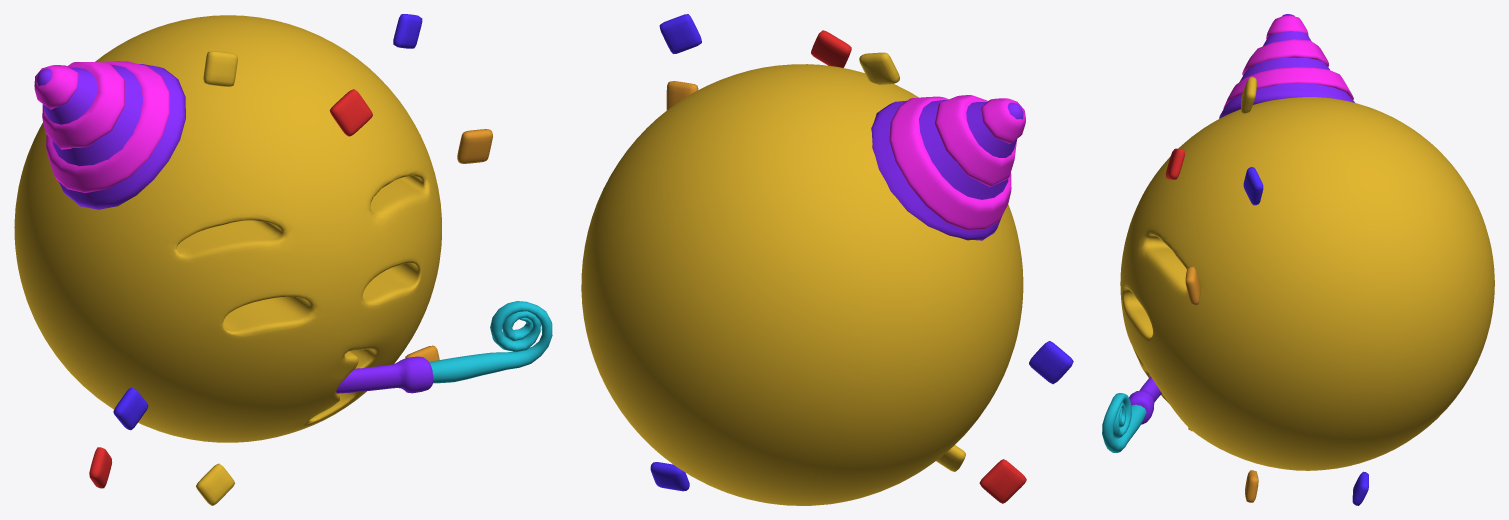
The model's file is party.glb.
The picture shows the model from 3 angles, left to right: view 1: azimuth 30°, elevation 25°; view 2: azimuth 150°, elevation 25°; view 3: azimuth 270°, elevation 25°; orthographic projection. The views are drawn at different scales.
Parts seen in each view (by area): view 1: party, Party4, Party5, Party3, Party2, Group1, Group8, Group7, Group3, Group4, ZBrush_defualt_group, Group5; view 2: party, Party4, Party5, Group5, Group4, ZBrush_defualt_group, Group1, Group8, Group2, Group7; view 3: party, Party4, Party5, Party3, Party2, ZBrush_defualt_group, Group7.
Part boxes in pixels (bbox=[...]): party: bbox=[14, 15, 441, 442]; Party4: bbox=[34, 61, 169, 193]; Party5: bbox=[36, 64, 185, 209]; Party3: bbox=[429, 301, 552, 383]; Party2: bbox=[336, 356, 433, 393]; Group1: bbox=[329, 89, 372, 136]; Group8: bbox=[203, 51, 237, 86]; Group7: bbox=[457, 129, 492, 163]; Group3: bbox=[196, 463, 234, 505]; Group4: bbox=[113, 387, 148, 430]; ZBrush_defualt_group: bbox=[393, 14, 422, 48]; Group5: bbox=[89, 447, 112, 488]; party: bbox=[581, 64, 1023, 505]; Party4: bbox=[889, 95, 1025, 230]; Party5: bbox=[871, 100, 1023, 240]; Group5: bbox=[979, 459, 1026, 503]; Group4: bbox=[1029, 341, 1073, 384]; ZBrush_defualt_group: bbox=[659, 14, 701, 53]; Group1: bbox=[811, 30, 851, 67]; Group8: bbox=[859, 52, 899, 84]; Group2: bbox=[650, 462, 689, 491]; Group7: bbox=[666, 81, 698, 110]; party: bbox=[1120, 97, 1494, 470]; Party4: bbox=[1223, 16, 1353, 108]; Party5: bbox=[1219, 14, 1354, 118]; Party3: bbox=[1102, 393, 1146, 452]; Party2: bbox=[1129, 376, 1161, 424]; ZBrush_defualt_group: bbox=[1243, 167, 1263, 205]; Group7: bbox=[1185, 266, 1200, 305].
Size of the model in its own units: 0.5962 by 0.5867 by 0.5634.
